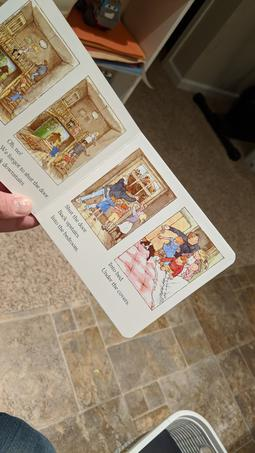text block: (1, 133, 51, 208), (47, 202, 89, 262), (99, 258, 134, 309)
